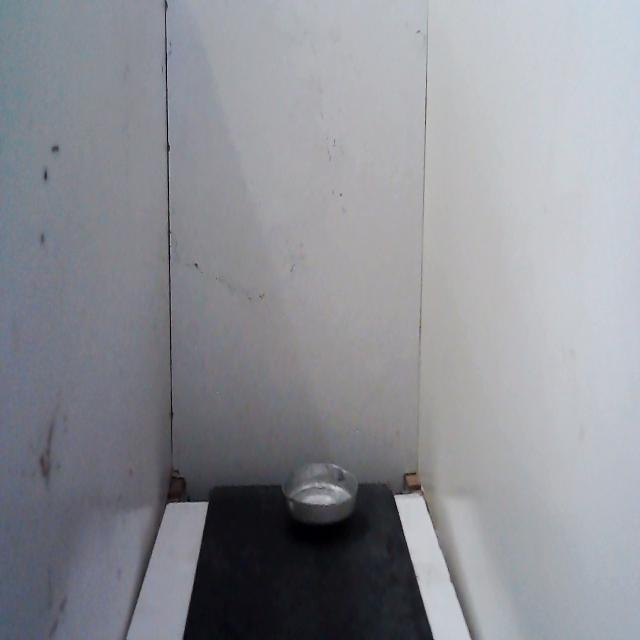metal: (276, 454, 364, 542)
